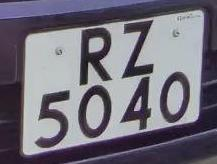0: (74, 80, 122, 145), (156, 65, 195, 129)
4: (119, 70, 158, 137)
5: (29, 85, 79, 154)
R: (71, 21, 121, 85)
Z: (117, 17, 161, 80)
